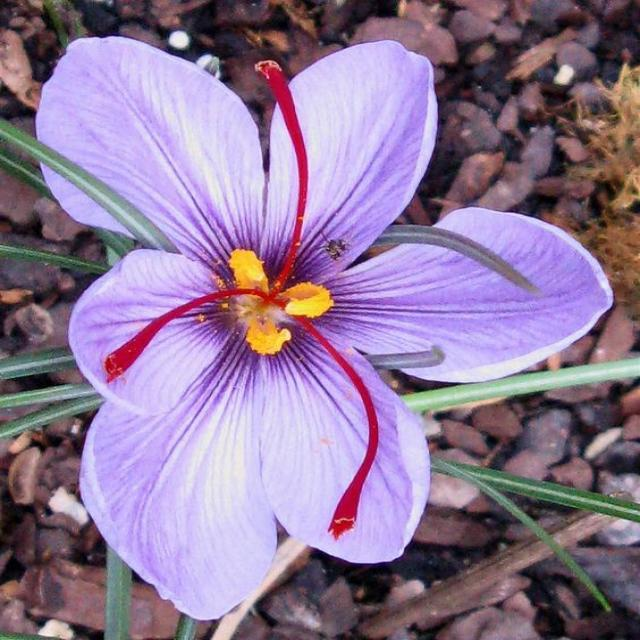Flower: (34, 38, 612, 621)
stigma: (292, 313, 381, 539), (103, 287, 289, 386), (254, 60, 312, 305)
